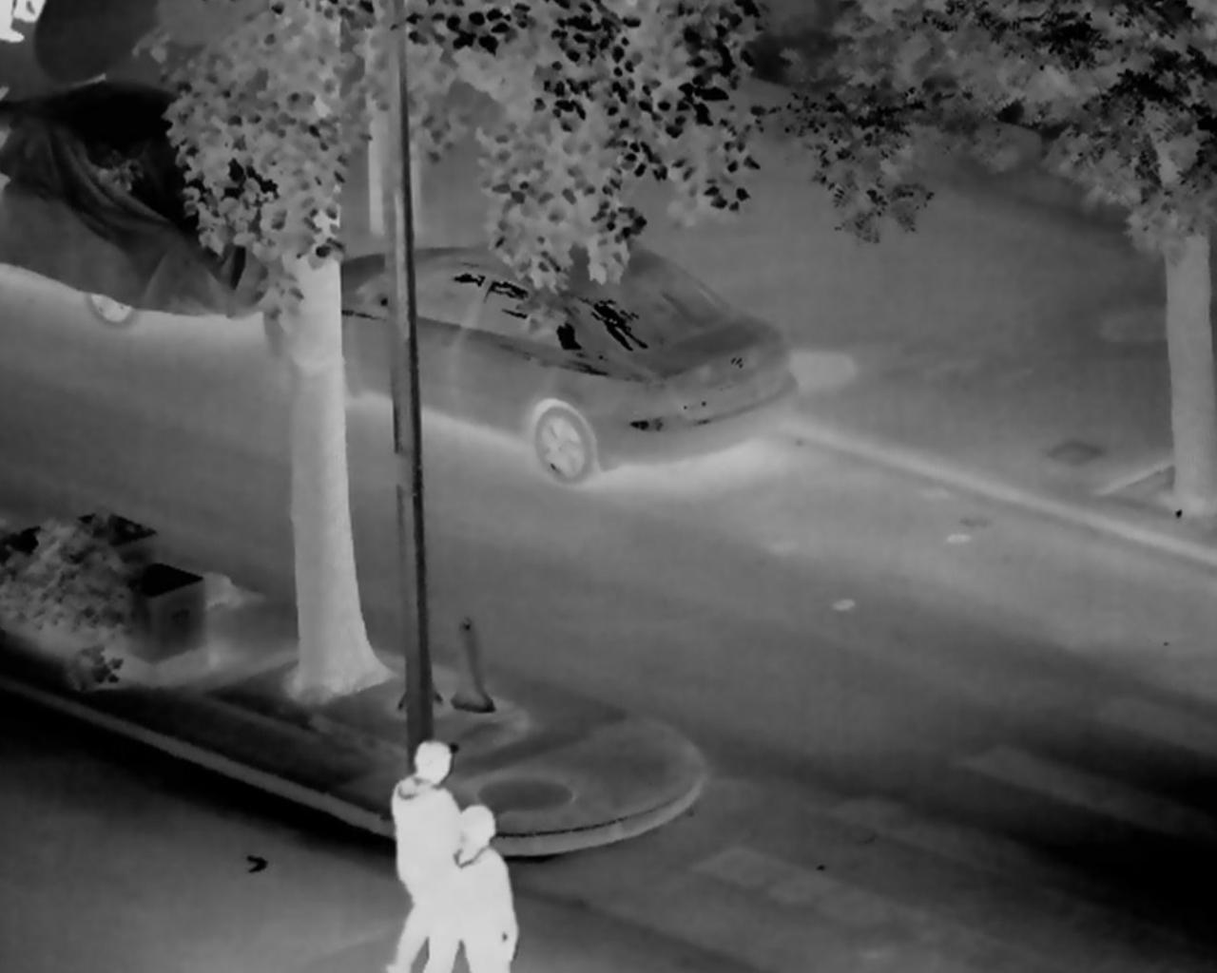person: (391, 738, 464, 973), (446, 803, 524, 973)
